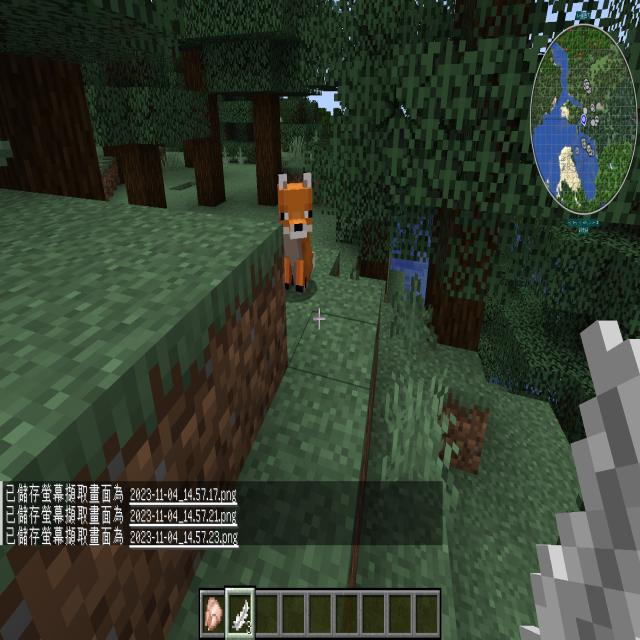Fox: (264, 163, 329, 312)
